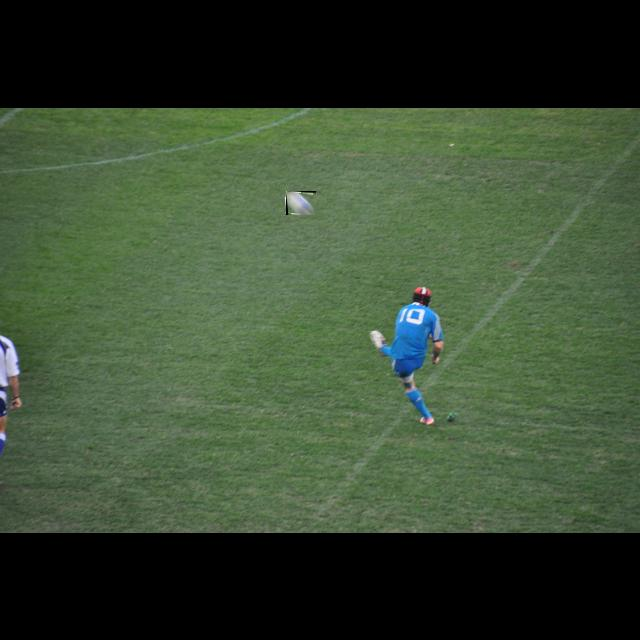Football: (286, 191, 316, 215)
